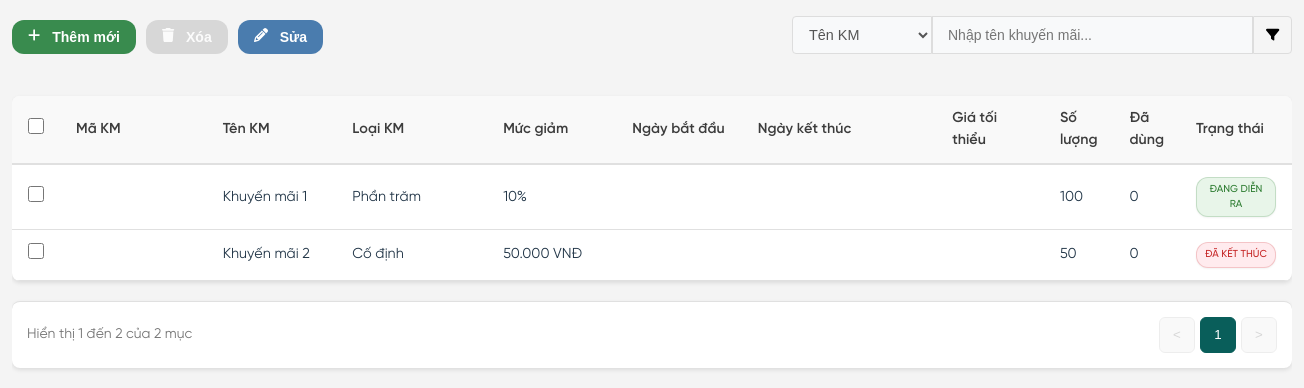
Test: PromotionTable › opens advanced search panel
The width and height of the screenshot is (1304, 388).
Expected: the text "Khuyến mãi 1" is shown, [207,165,336,230]
Click the button titled "Tìm kiếm nâng cao". click: (1272, 35)
box: [1253,16,1292,54]
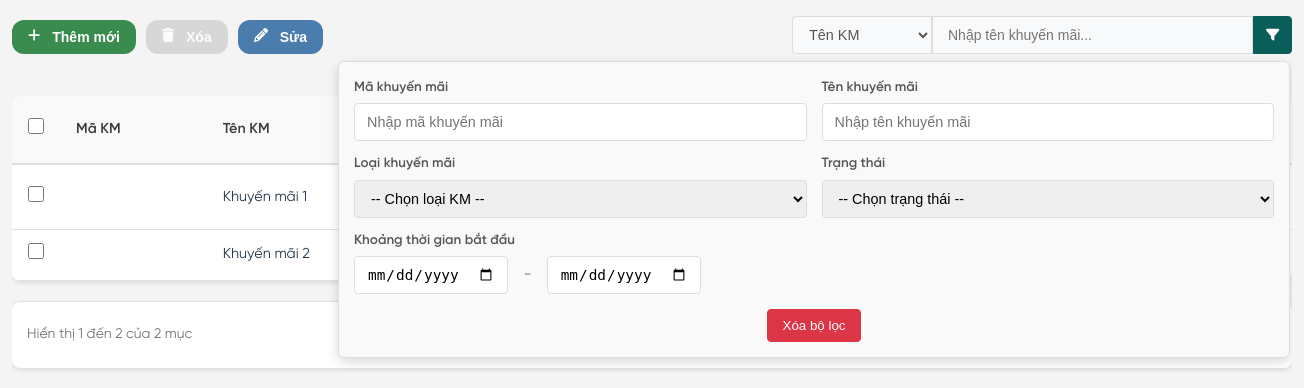
Now the field labelled "Mã khuyến mãi" is shown, box [354,103,806,141]
Now the field labelled "Tên khuyến mãi" is shown, box [822,103,1274,141]
